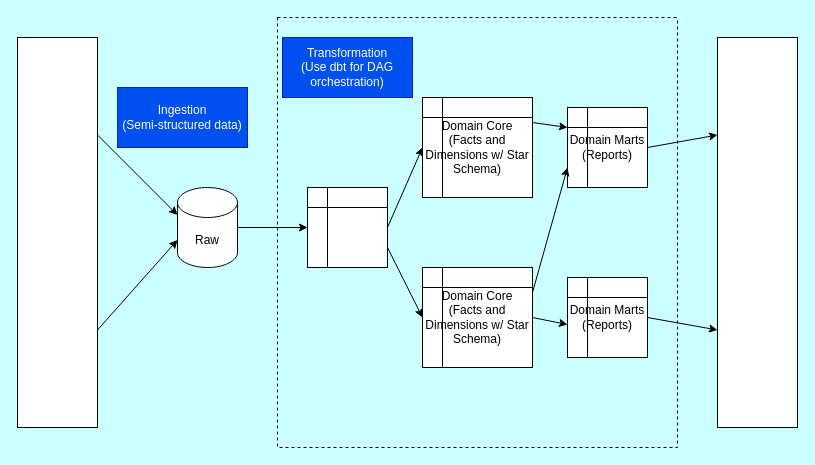
This 815x465 diagram has some shape labels left out. The centre of each missing label's shape, as x and y in pixels:
"Data Consumers (Like Dashboards / Excel)" belongs at (757,232).
"Data Sources" belongs at (57,232).
"Staging" belongs at (347,227).
